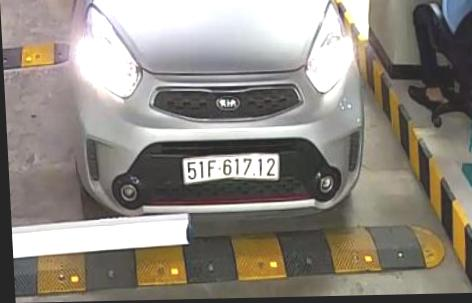License_Plate: (181, 144, 291, 192)
